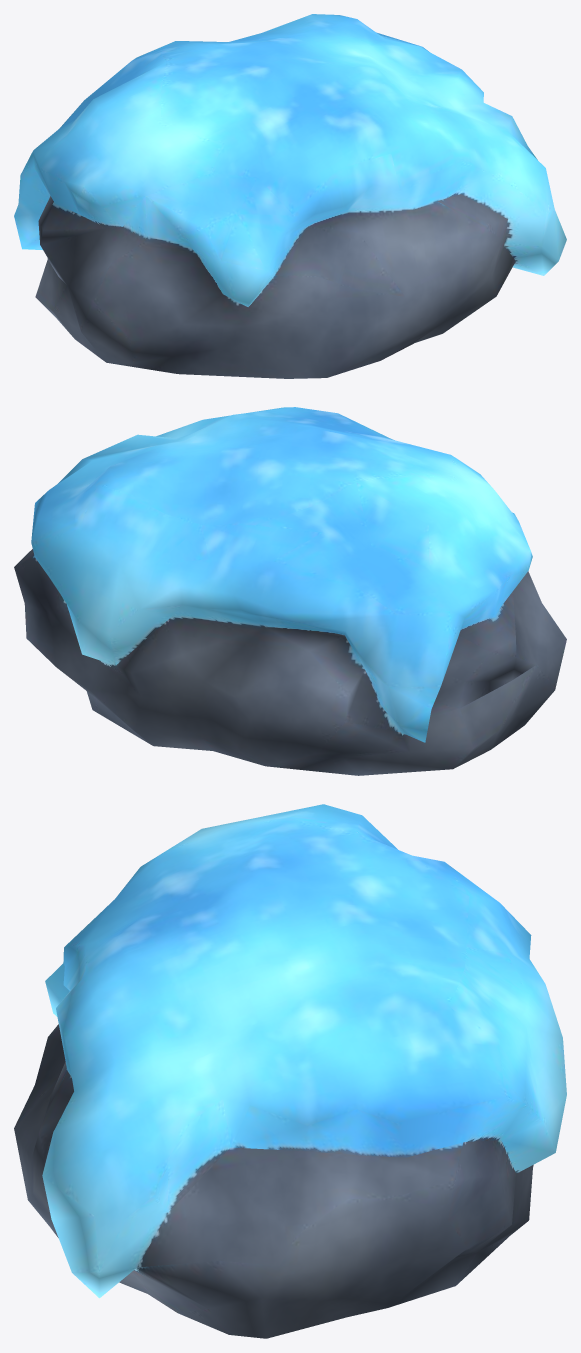
The model's file is SM_Rock_Ice_2.glb.
The picture shows the model from 3 angles, top to bottom: view 1: azimuth 30°, elevation 25°; view 2: azimuth 150°, elevation 25°; view 3: azimuth 270°, elevation 25°; orthographic projection. The views are drawn at different scales.
Visible parts, largest first — view 1: SM_Rock_Ice_2; view 2: SM_Rock_Ice_2; view 3: SM_Rock_Ice_2.
Part boxes in pixels (x1,y1,x2,y2): SM_Rock_Ice_2: (14, 14, 566, 378); SM_Rock_Ice_2: (14, 407, 566, 775); SM_Rock_Ice_2: (14, 804, 566, 1338).
Bounding box in the file's own units: 1.69 × 0.8632 × 1.33.
Materials: 1 (1 with a texture image).
